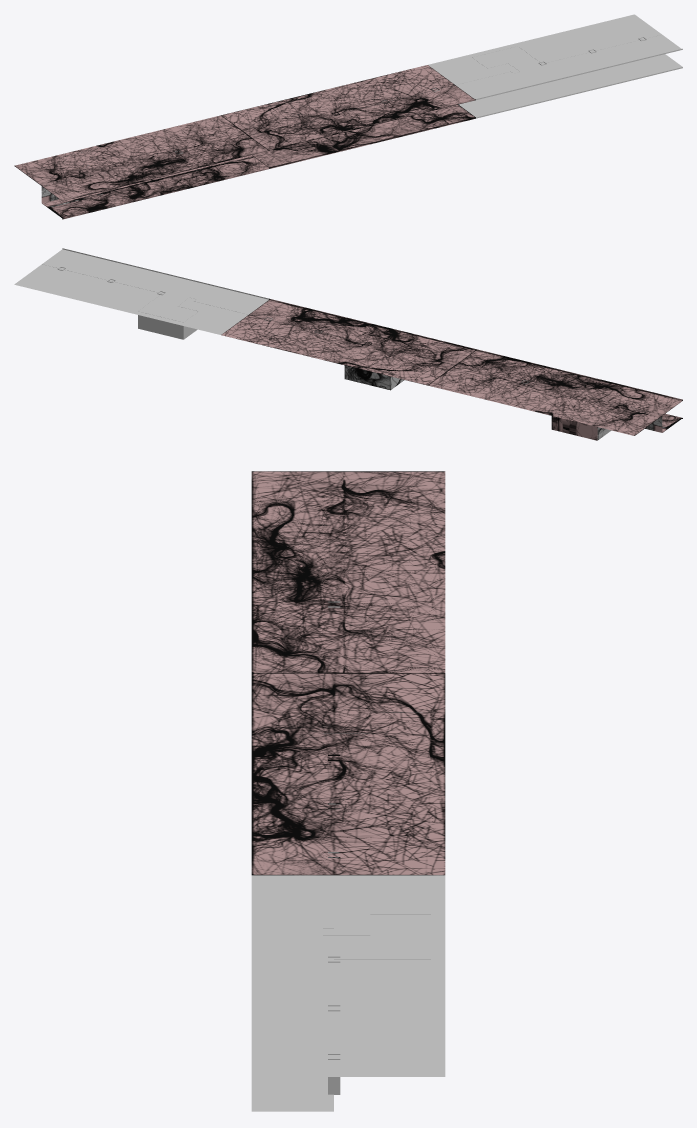
File: Final_Floor1.fbx
3 renders of one model, top to bottom at view 1: azimuth 30°, elevation 25°; view 2: azimuth 150°, elevation 25°; view 3: azimuth 270°, elevation 25°, orthographic. The views are drawn at different scales.
Parts seen in each view (by area): view 1: Floor2_1_Final, Floor2_3_Final, Floor2_2_Final; view 2: Floor2_1_Final, Floor2_2_Final, Floor2_3_Final; view 3: Floor2_3_Final, Floor2_1_Final, Floor2_2_Final.
Boxes of the visible parts, left/top/right/bottom form: Floor2_1_Final: left=14, top=115, right=269, bottom=219; Floor2_3_Final: left=428, top=14, right=682, bottom=118; Floor2_2_Final: left=221, top=65, right=475, bottom=168; Floor2_1_Final: left=428, top=349, right=682, bottom=440; Floor2_2_Final: left=221, top=298, right=475, bottom=390; Floor2_3_Final: left=14, top=248, right=269, bottom=339; Floor2_3_Final: left=251, top=875, right=445, bottom=1111; Floor2_1_Final: left=251, top=471, right=445, bottom=673; Floor2_2_Final: left=251, top=673, right=445, bottom=875.
Bounding box in the file's own units: 12651 × 380 × 1707.
